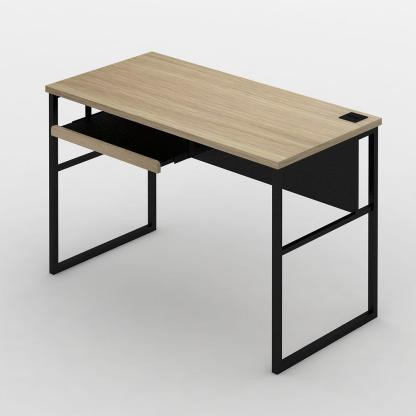table: (37, 45, 386, 377)
